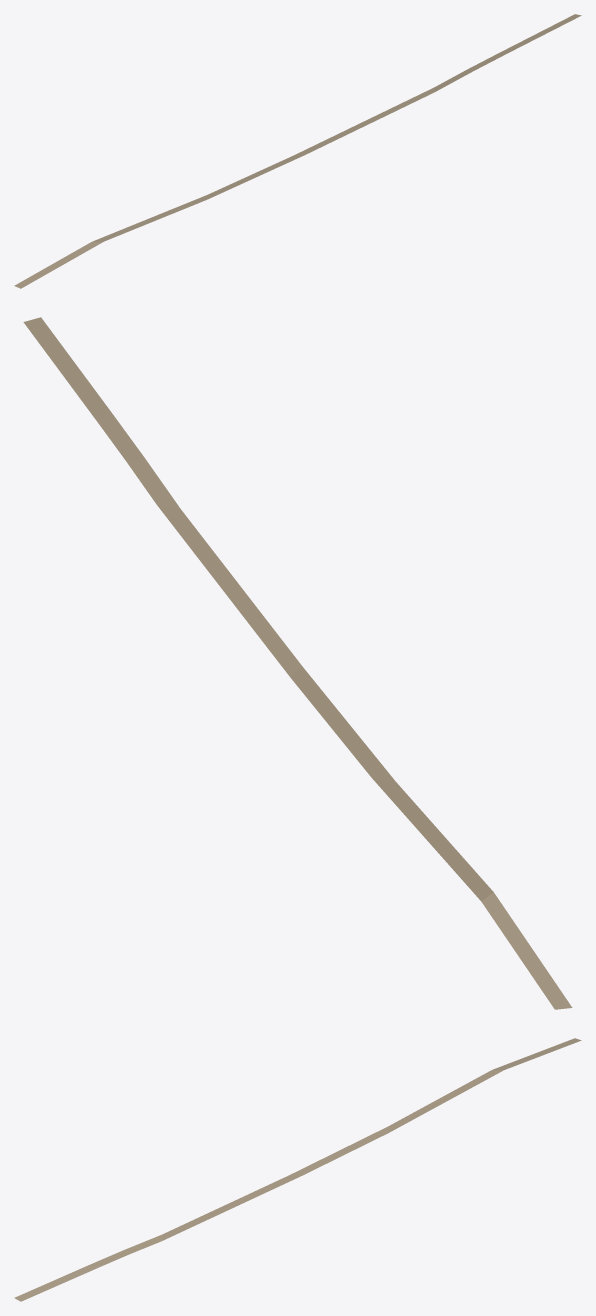
File: farm_-11_8_track.glb
3 renders of one model, top to bottom at view 1: azimuth 90°, elevation 25°; view 2: azimuth 150°, elevation 25°; view 3: azimuth 270°, elevation 25°, orthographic. The views are drawn at different scales.
Parts seen in each view (by area): view 1: geometry_0; view 2: geometry_0; view 3: geometry_0.
Part boxes in pixels (left/top/right/bottom): geometry_0: left=14, top=14, right=581, bottom=288; geometry_0: left=23, top=317, right=572, bottom=1009; geometry_0: left=14, top=1038, right=581, bottom=1301.
Size of the model in its own units: 225 by 3.82 by 200.
